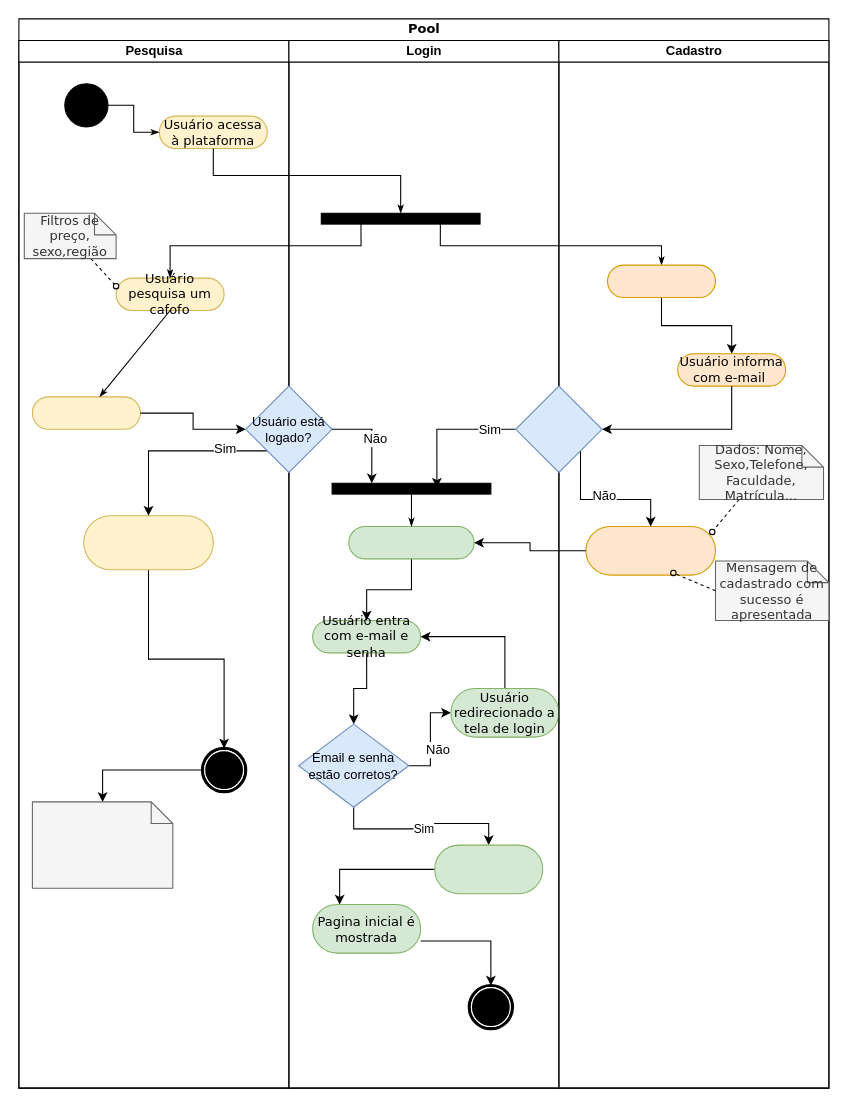
Some shapes in this 848 by 1107 pixel diagram are drawn without their labels. The centre of each missing label's shape, as x and y in pixels:
"Email já cadastrado?" belongs at point 558,429.
"Informações sobre cafofo são mostradas" belongs at point 148,542.
"Usuário acessa pagina de cadastro" belongs at point 661,281.
"Usuário direcionado para tela de login" belongs at point 411,542.
"Usuário seleciona um cafofo" belongs at point 85,412.
"Usuário tem acesso sobre cafofo como: preço, tamanho, sexo dos residentes..." belongs at point 102,844.
"Usuário tem sucesso em acessar à plataforma" belongs at point 488,869.
"Usuários informa outros dados a serem coletados" belongs at point 650,550.
